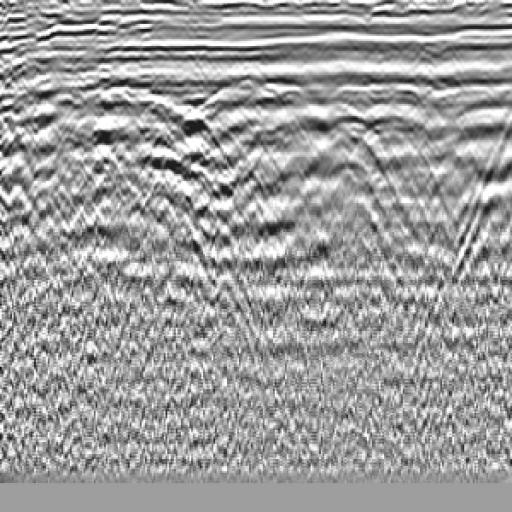metalic: (275, 94, 417, 178)
